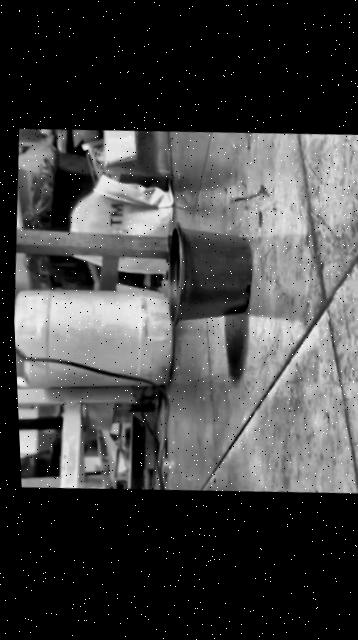pot: (161, 220, 255, 328)
